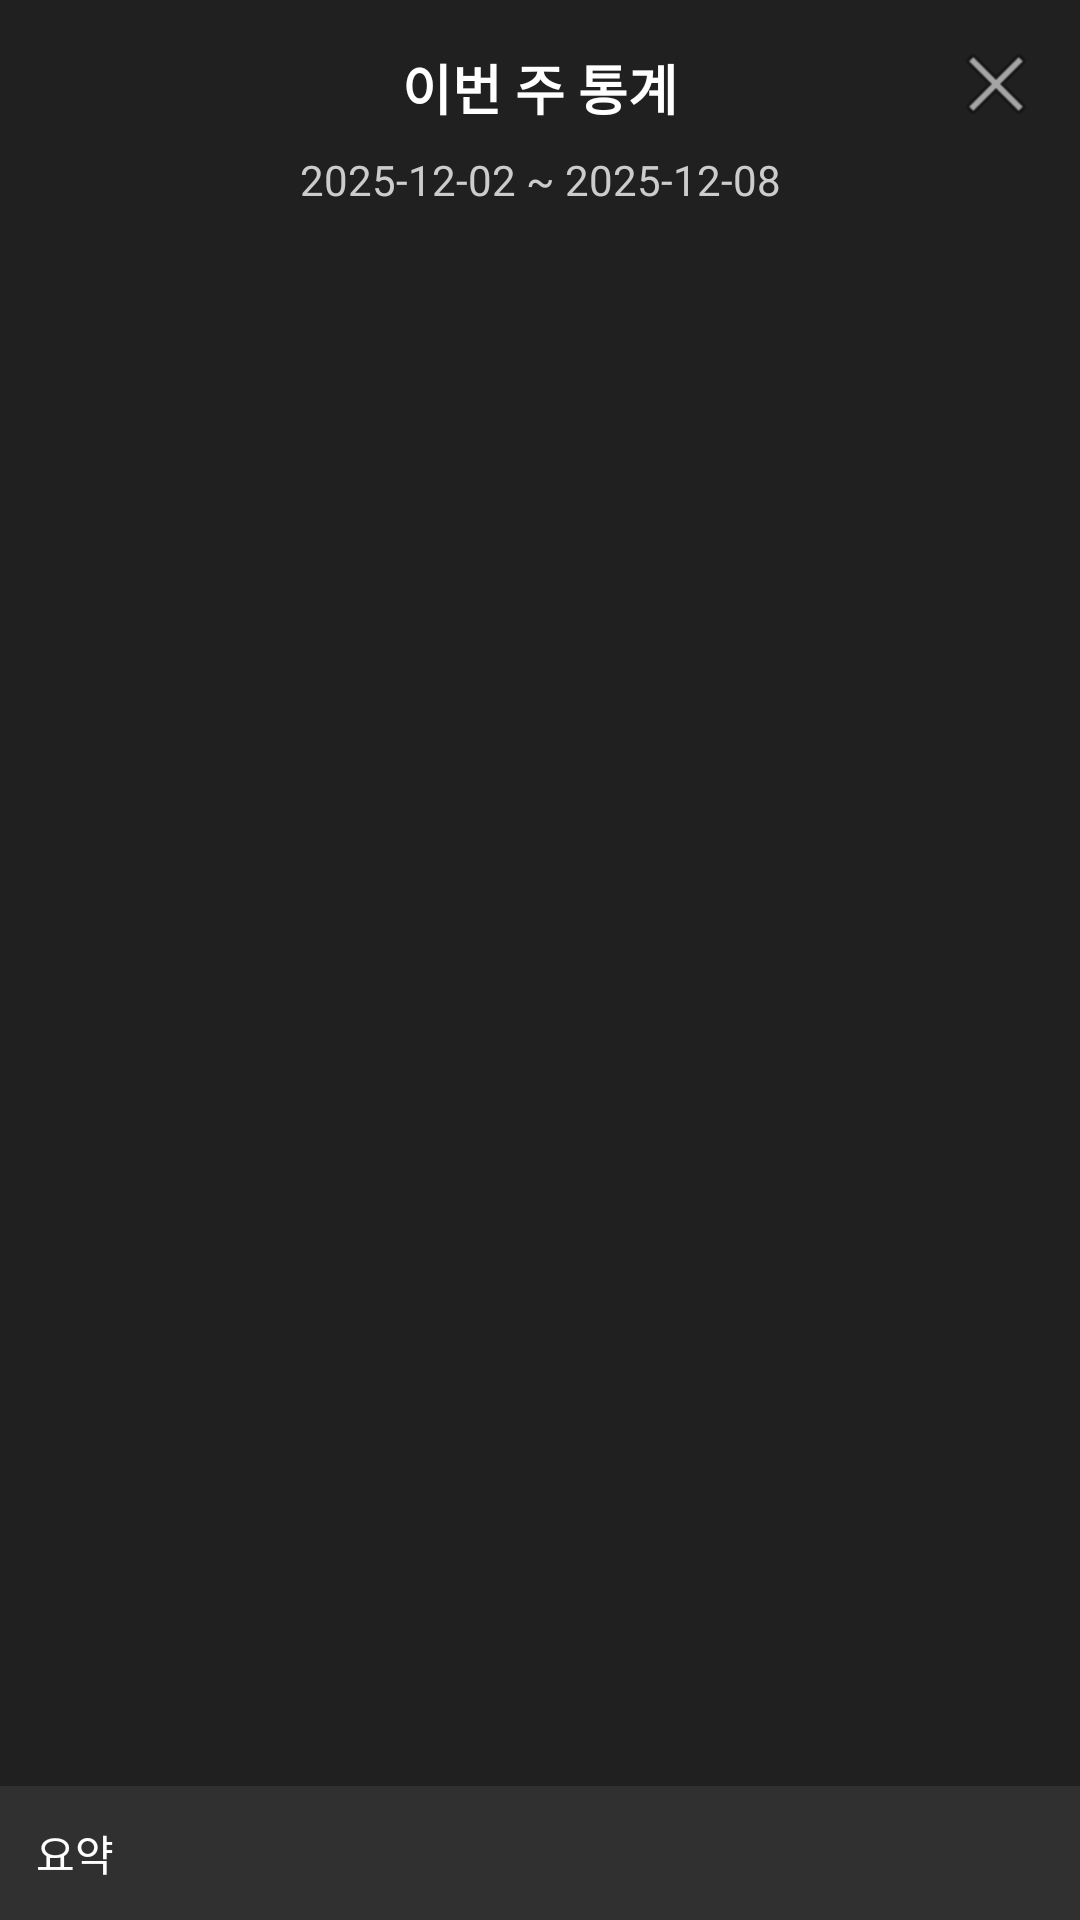

Icons on this 1080x1920 Android screen, each with its box as (x1, y1, x2, y2):
닫기: (969, 57, 1023, 111)
